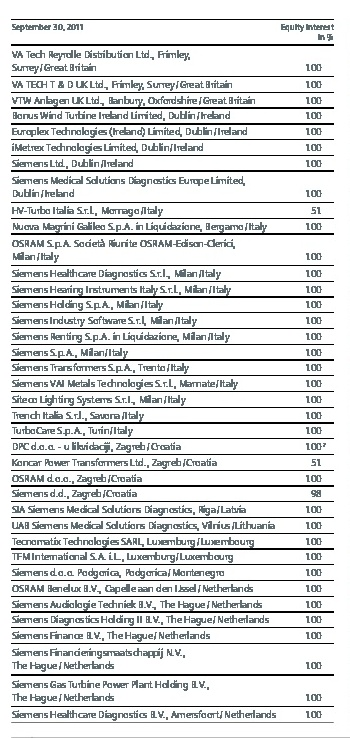table: (0, 0, 350, 738)
